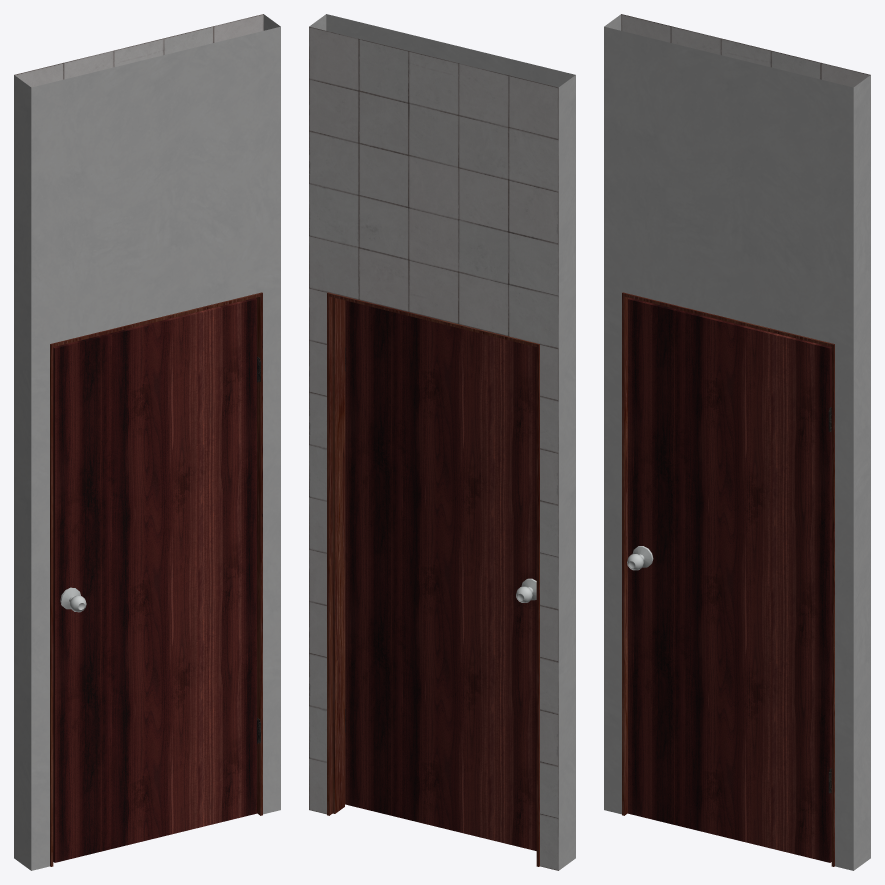
Rendered from iside_door.FBX.
3 views of the same model, side by side, from view 1: azimuth 30°, elevation 25°; view 2: azimuth 150°, elevation 25°; view 3: azimuth 330°, elevation 25° (orthographic).
Parts seen in each view (by area): view 1: door_frame, door; view 2: door_frame, door; view 3: door_frame, door.
Boxes of the visible parts, x1,y1,x2,y2 form: door_frame: (14,14,280,870); door: (53,298,260,862); door_frame: (309,14,575,870); door: (345,300,536,850); door_frame: (604,14,870,870); door: (627,298,831,862).
Bounding box in the file's own units: 1 × 0.2032 × 3.
2 materials, 2 textured.
